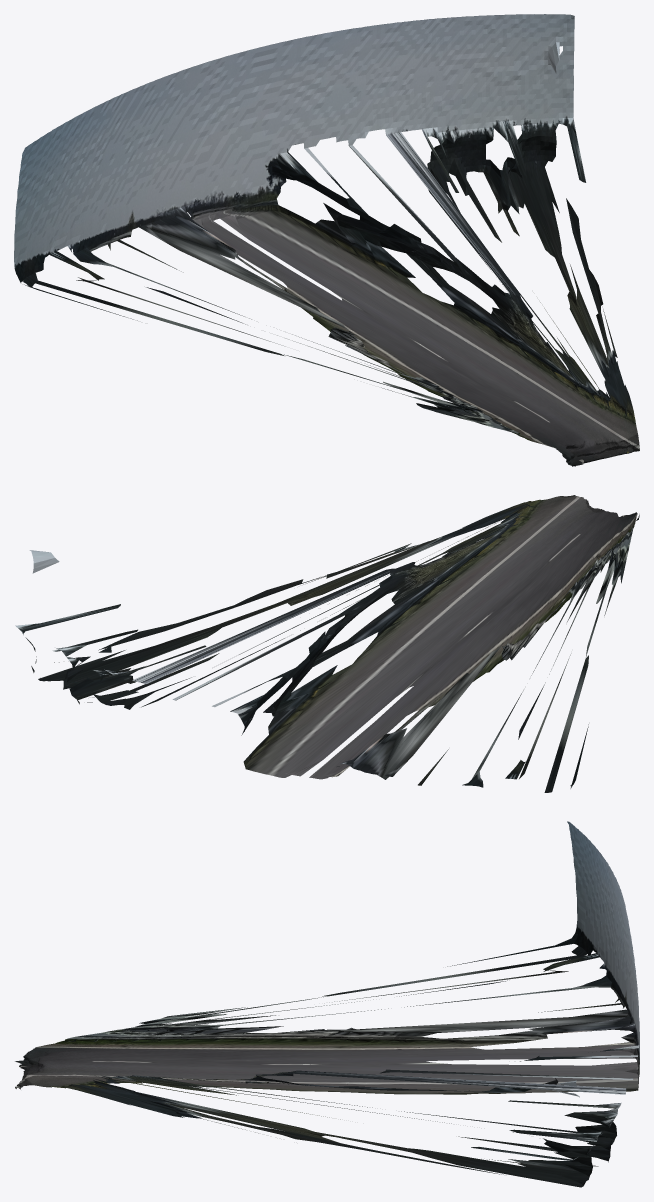
3 views of the same model, one above another, from view 1: azimuth 30°, elevation 25°; view 2: azimuth 150°, elevation 25°; view 3: azimuth 270°, elevation 25° (orthographic). The views are drawn at different scales.
Parts seen in each view (by area): view 1: defaultobject; view 2: defaultobject; view 3: defaultobject.
Boxes of the visible parts, left/top/right/bottom form: defaultobject: left=14, top=14, right=639, bottom=466; defaultobject: left=15, top=495, right=639, bottom=792; defaultobject: left=15, top=821, right=639, bottom=1187.
Bounding box in the file's own units: 41.14 × 12.1 × 44.62.
Materials: 1 (1 with a texture image).
